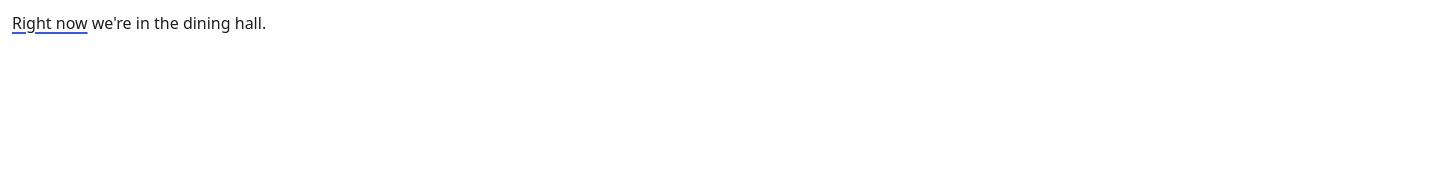
only unit expressions are underlined and say so; any word translates
What coordinates should you click on to do the following:
click the button "Right now"
I would click on:
 (50, 24)
Its box is x1=12 y1=12 x2=88 y2=35.
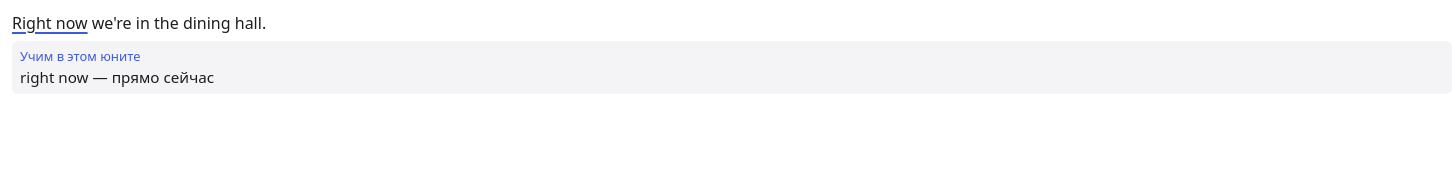
expect the element showing "Учим в этом юните right now — прямо сейчас" is shown: met, box x1=12 y1=41 x2=1451 y2=94
A set phrase is not marked but translates as a whole.
What coordinates should you click on to do the following:
click the button "dining hall"
I would click on:
 (222, 24)
Its box is x1=183 y1=12 x2=262 y2=35.
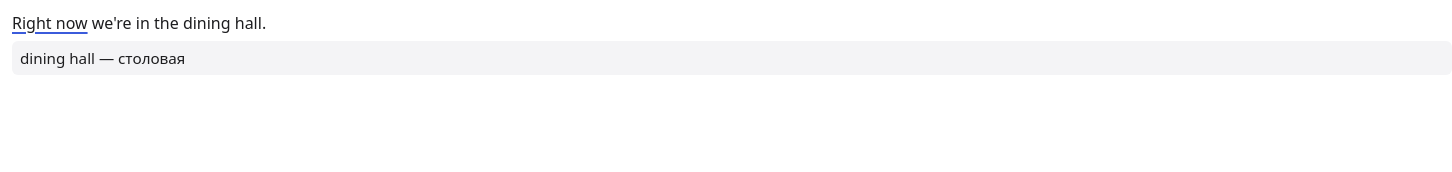
expect the element showing "dining hall — столовая" is shown: met, box x1=12 y1=41 x2=1451 y2=75
What coordinates should you click on to do the following:
click the button "we're"
I would click on:
 (112, 24)
Its box is x1=92 y1=12 x2=132 y2=35.
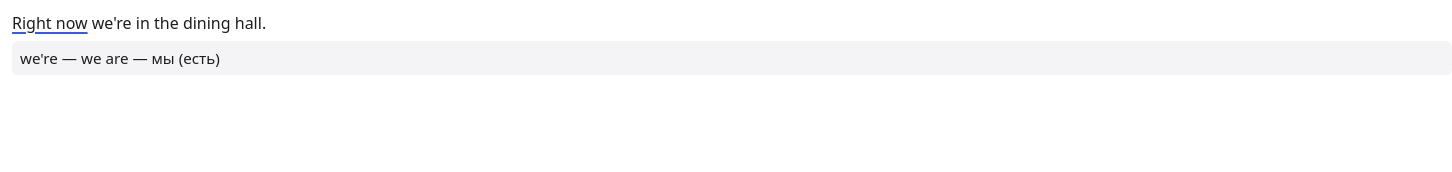
expect the element showing "we're — we are — мы (есть)" is shown: met, box x1=12 y1=41 x2=1451 y2=75
